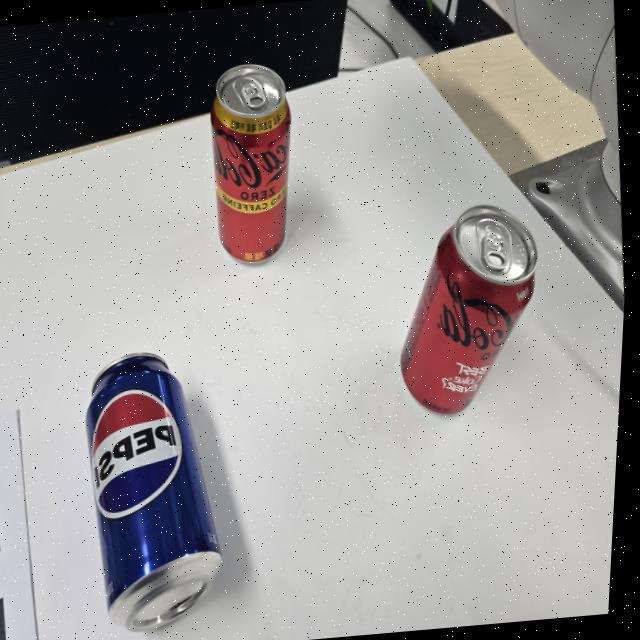can_coke_decaf: (211, 60, 292, 264)
can_coke_zero: (400, 207, 537, 415)
can_pepsi: (85, 352, 221, 634)
